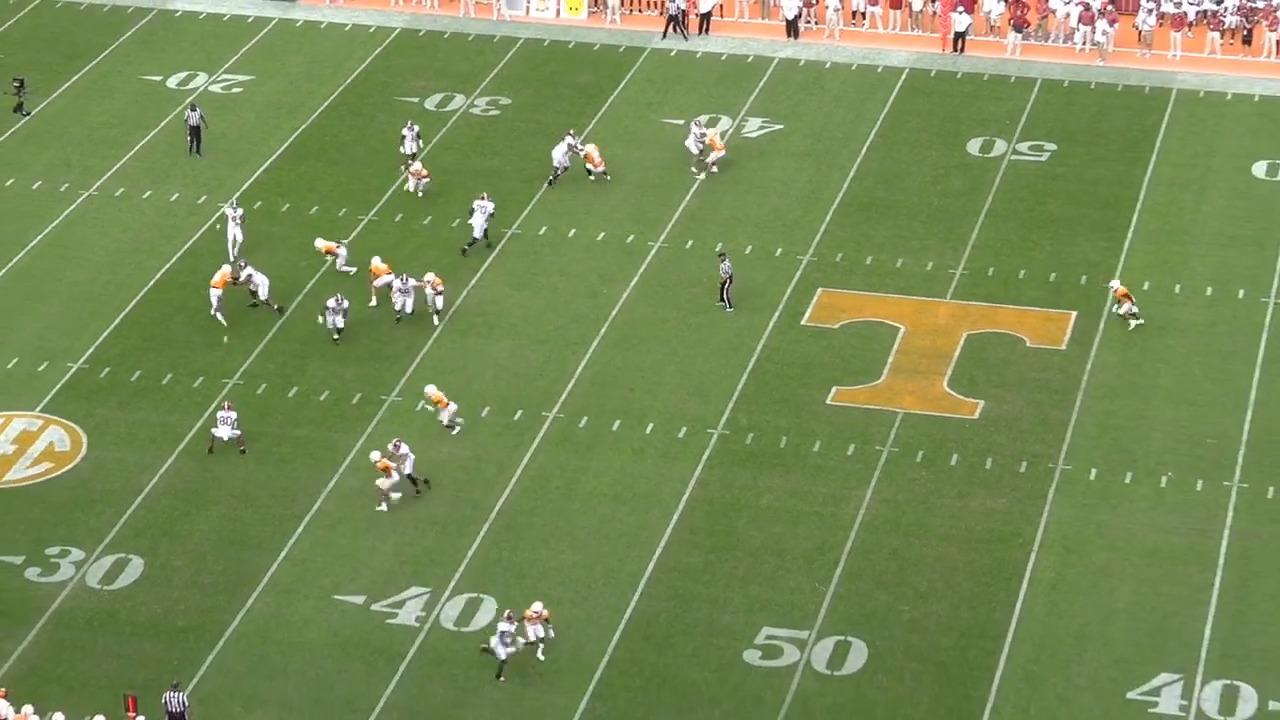player: (483, 611, 528, 687), (203, 397, 251, 461), (235, 259, 287, 317), (385, 435, 433, 496), (463, 193, 504, 260), (417, 383, 464, 440), (518, 597, 557, 665), (363, 448, 401, 516), (544, 125, 582, 187), (1103, 278, 1144, 332), (201, 259, 231, 328), (316, 239, 362, 282), (322, 293, 355, 350), (362, 254, 395, 310), (415, 272, 446, 331), (216, 201, 244, 266), (577, 139, 615, 186), (700, 125, 732, 178), (683, 118, 711, 178), (395, 119, 425, 173), (389, 273, 418, 326), (401, 159, 432, 200)
ref: (711, 247, 735, 316), (661, 2, 693, 48), (182, 102, 206, 162), (158, 678, 191, 720)
